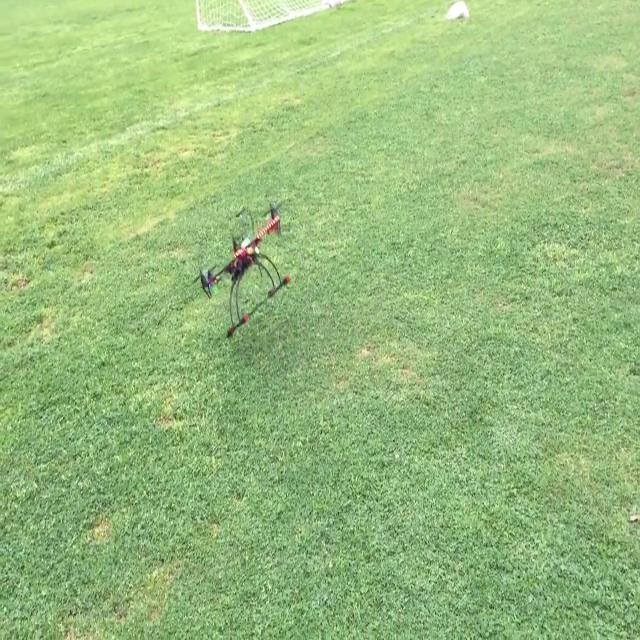drone: (190, 202, 310, 326)
